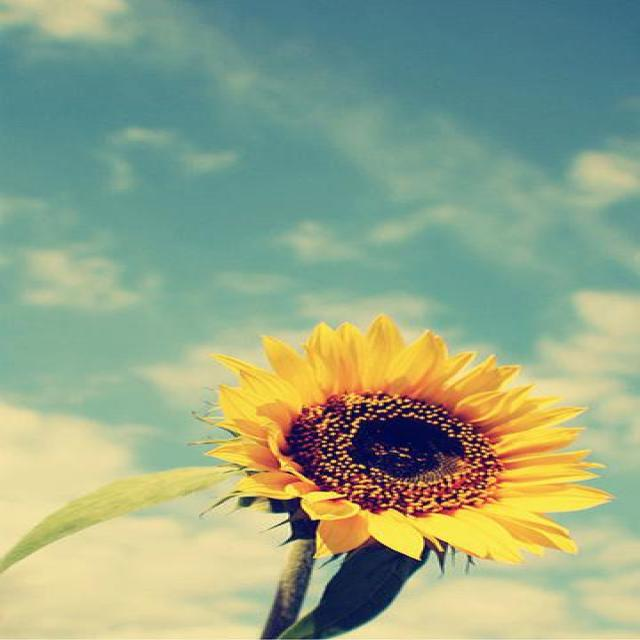sunflower: (195, 307, 612, 573)
